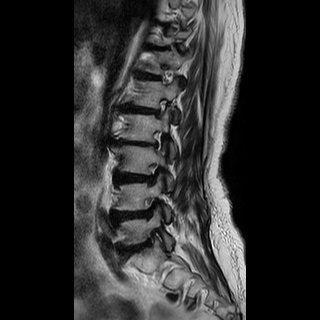RFS2: (142, 158, 164, 190), (146, 123, 167, 156), (150, 93, 170, 122)
